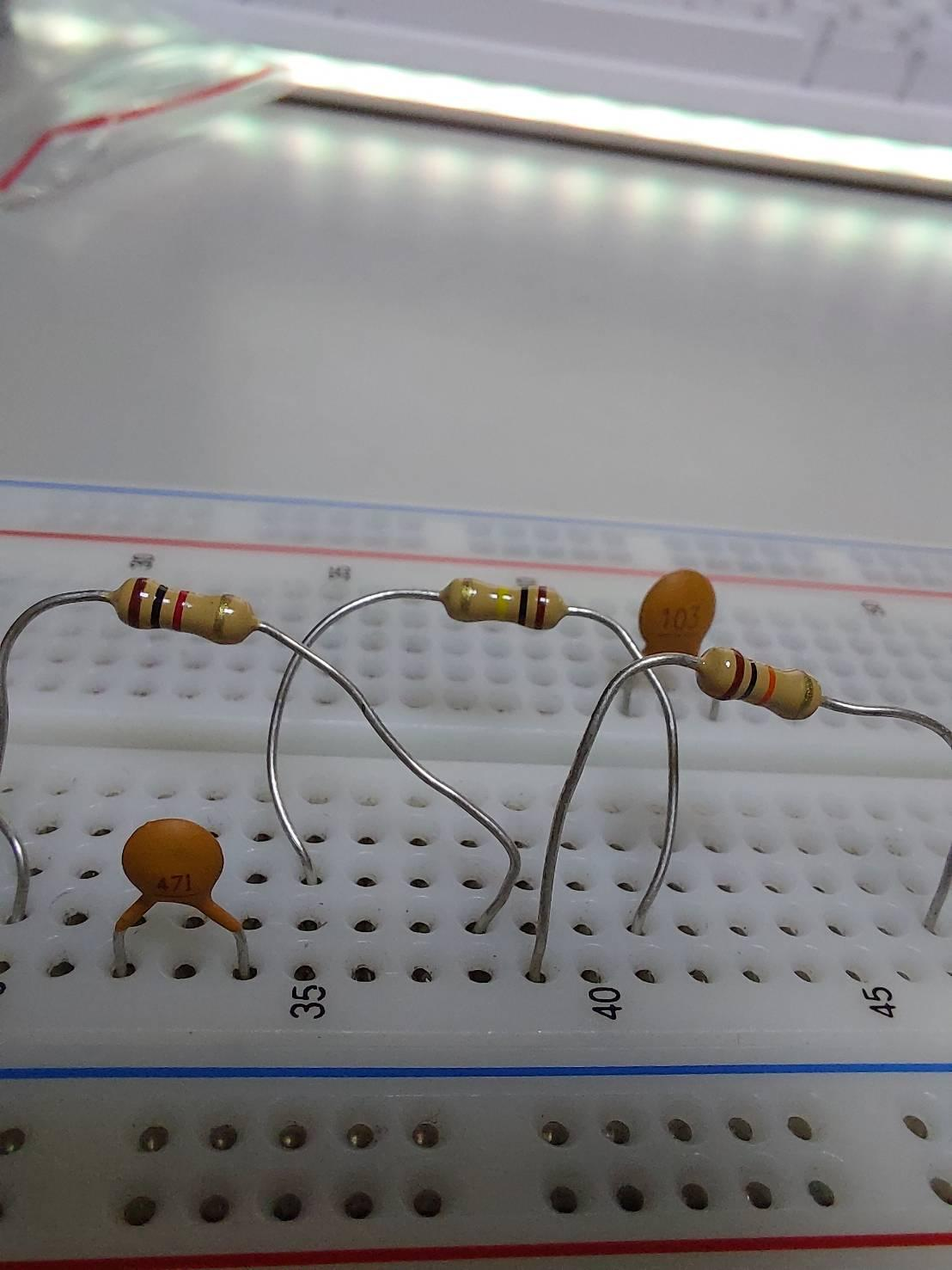resistor: (103, 571, 247, 647), (684, 645, 825, 717), (437, 575, 576, 629)
